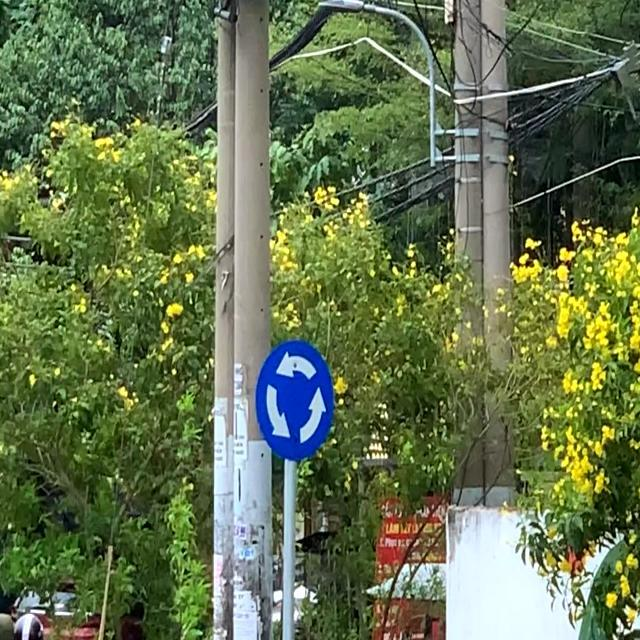R-303: (254, 339, 334, 459)
